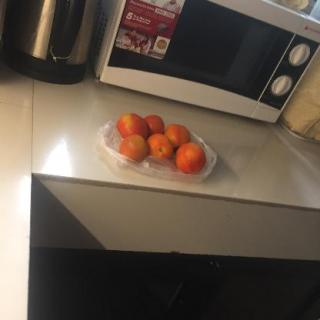Tomat: (101, 102, 221, 188)
